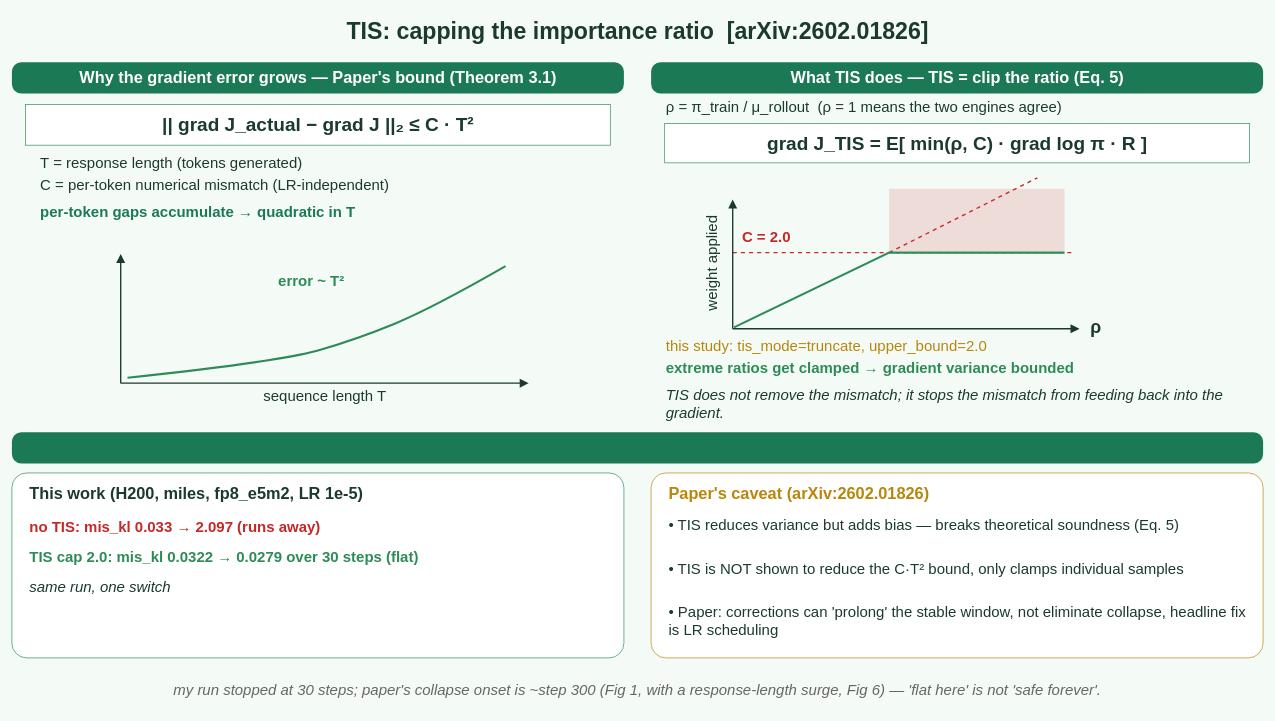
The diagram is 1275 pixels wide and 721 high, and some of its shapes have lost their labels. The centre of each missing label's shape, as x and y in pixels:
"clipped" belongs at point (976, 219).
"This work: does the cap hold?" belongs at point (637, 447).
